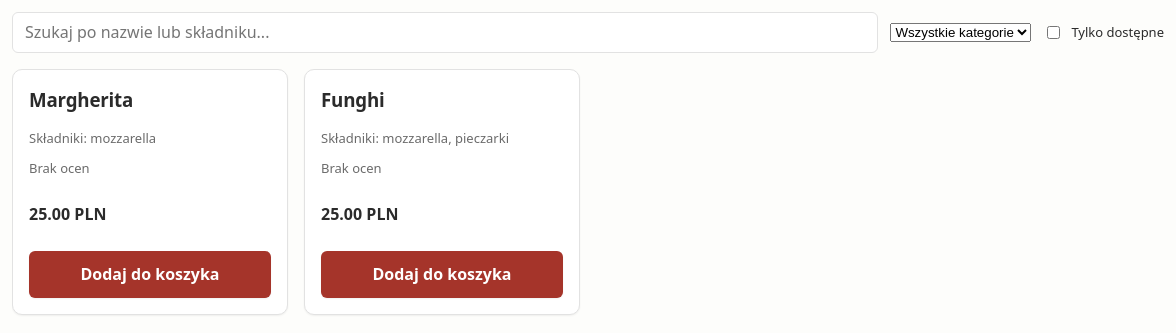
Test: MenuList › finds items by a base ingredient, not just by name
The image size is (1176, 333).
Type "Pieczar" into the search field named "Szukaj w menu" at point(445, 33), box [12, 12, 878, 53]
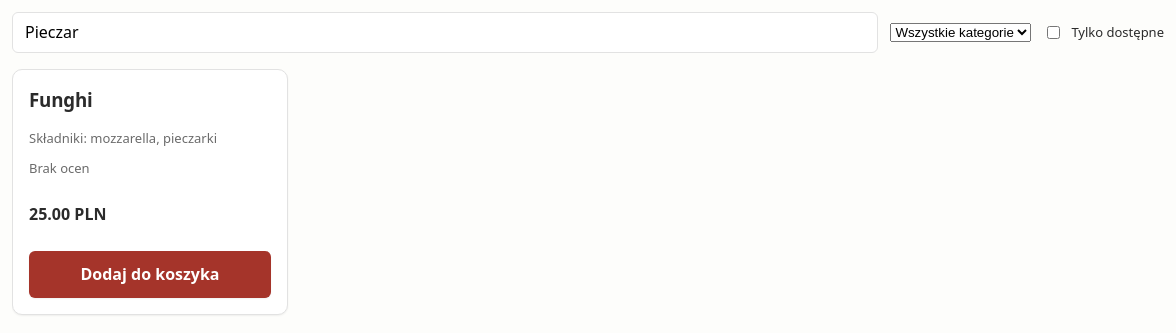
Expected: the heading "Funghi" is shown, [29, 87, 93, 112]
Expected: the heading "Margherita" is gone
